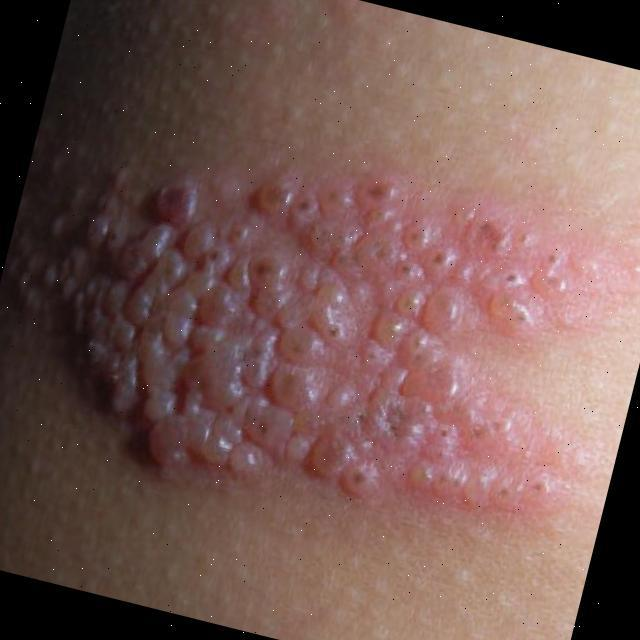Shingles: (27, 162, 582, 516)
